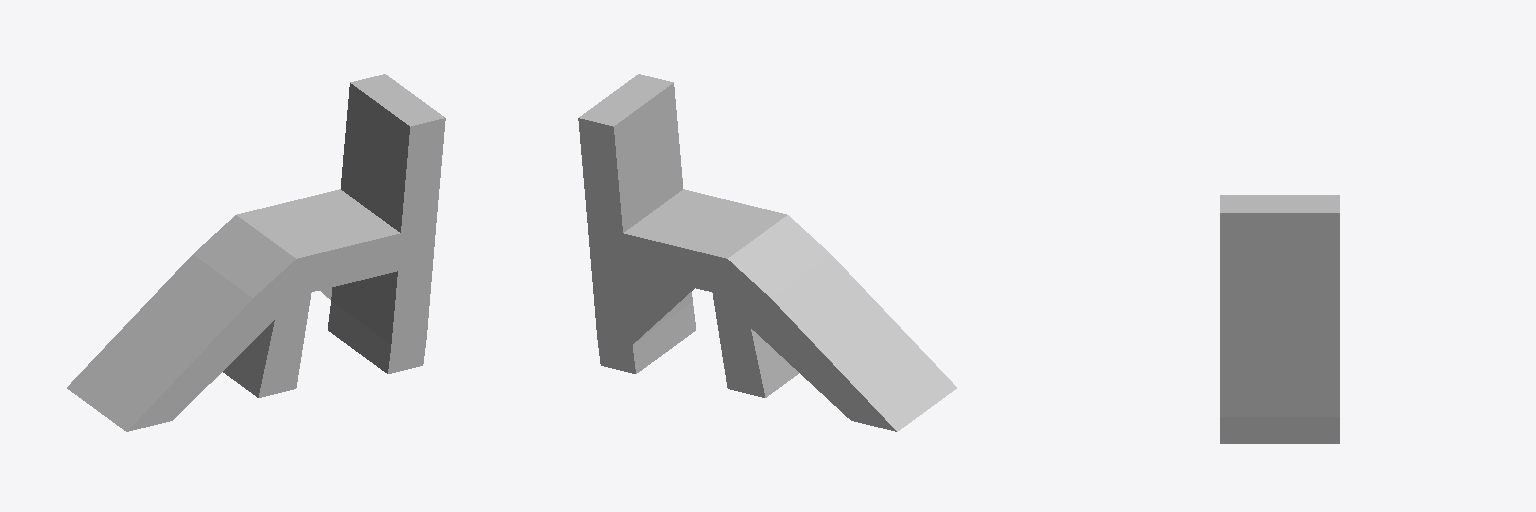
The model's file is roughBarricade.obj.
3 views of the same model, side by side, from view 1: azimuth 30°, elevation 25°; view 2: azimuth 150°, elevation 25°; view 3: azimuth 270°, elevation 25° (orthographic).
Visible parts, largest first — view 1: Cube_Cube.001; view 2: Cube_Cube.001; view 3: Cube_Cube.001.
Part boxes in pixels (bbox=[...]): Cube_Cube.001: bbox=[67, 74, 445, 431]; Cube_Cube.001: bbox=[578, 74, 956, 431]; Cube_Cube.001: bbox=[1220, 195, 1339, 443].
Size of the model in its own units: 3.6 by 2.61 by 1.18.